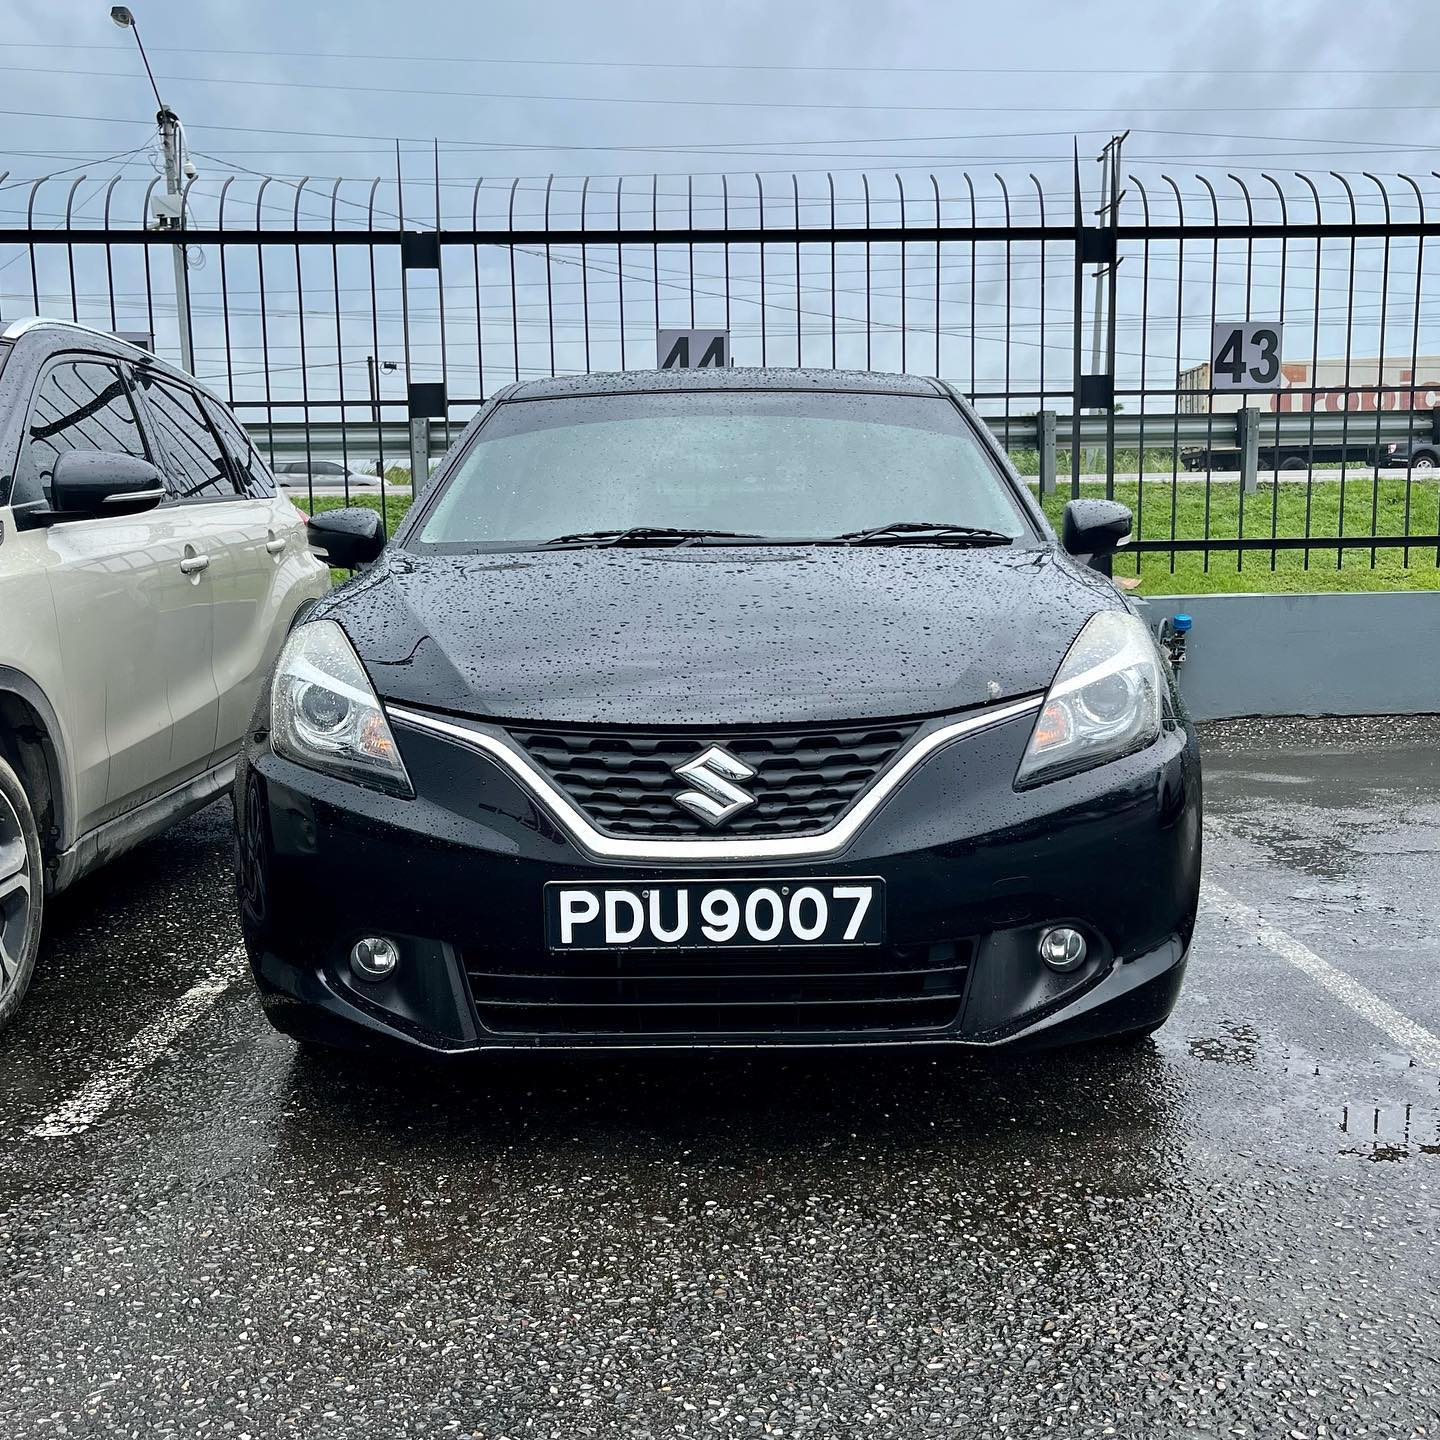License-Plate: (547, 883, 882, 949)
